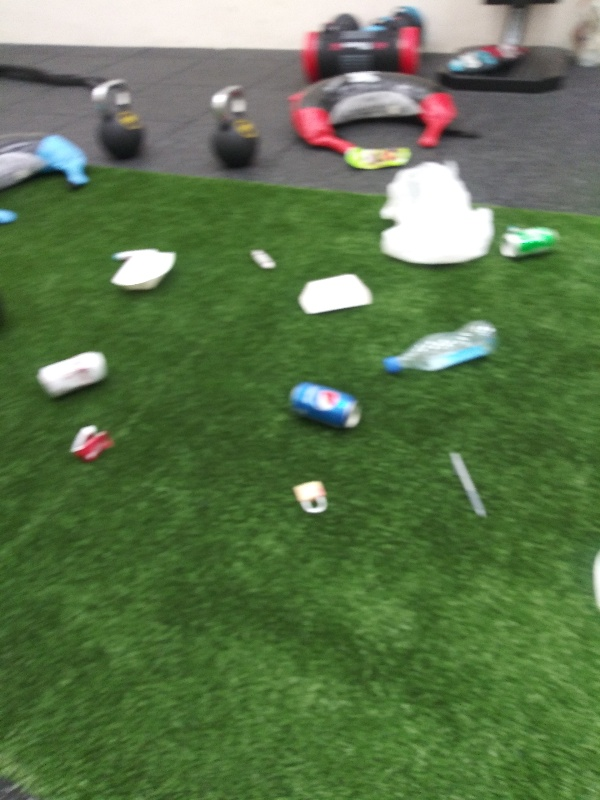bag: (340, 143, 419, 168)
bottle: (380, 317, 500, 377)
can: (283, 380, 371, 435), (34, 345, 113, 400), (496, 223, 567, 261)
plate: (296, 267, 380, 316), (104, 248, 177, 298)
